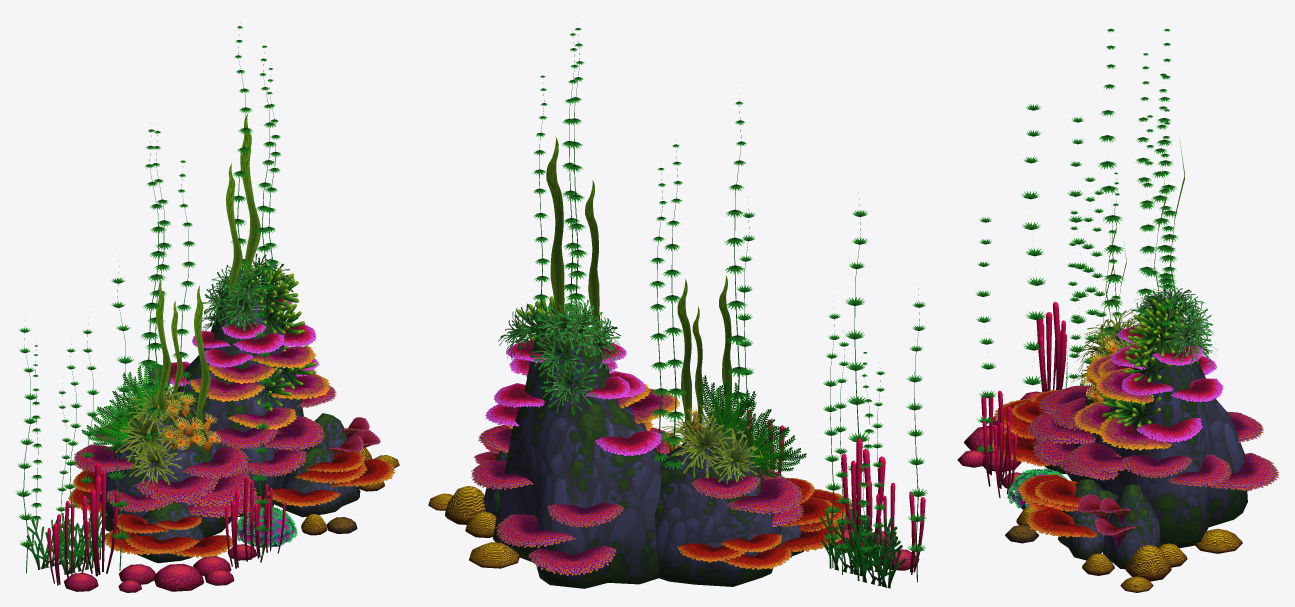
Rendered from CoralSet_14.FBX.
3 views of the same model, side by side, from view 1: azimuth 30°, elevation 25°; view 2: azimuth 150°, elevation 25°; view 3: azimuth 270°, elevation 25° (orthographic). The views are drawn at different scales.
Parts seen in each view (by area): view 1: Plane004, Plane145, Plane122, CoralSet_14, Plane163, Plane172, Line025, Line186, Plane289, Plane036, Plane301, Line230 (+27 smaller); view 2: Plane004, Plane145, CoralSet_14, Plane122, Plane172, Plane289, Plane288, Line025, Plane310, Plane305, Plane320, Plane312 (+24 smaller); view 3: Plane004, Plane145, Plane122, Plane163, Plane172, CoralSet_14, Line025, Line230, Line175, Plane312, Plane298, Plane324 (+23 smaller).
Part boxes in pixels (x1,y1,x2,y2): Plane004: (99, 283, 360, 537); Plane145: (73, 384, 336, 518); Plane122: (68, 451, 394, 557); CoralSet_14: (156, 113, 380, 455); Plane163: (189, 346, 330, 429); Plane172: (150, 323, 319, 386); Line025: (82, 463, 119, 576); Line186: (161, 394, 221, 451); Plane289: (81, 391, 136, 451); Plane036: (136, 502, 204, 563); Plane301: (113, 402, 180, 472); Line230: (224, 476, 270, 568); Plane004: (483, 322, 781, 588); Plane145: (471, 424, 803, 575); CoralSet_14: (473, 137, 731, 464); Plane122: (677, 478, 852, 569); Plane172: (485, 341, 662, 456); Plane289: (743, 409, 806, 478); Plane288: (700, 375, 756, 439); Line025: (841, 438, 885, 558); Plane310: (663, 139, 686, 483); Plane305: (670, 414, 735, 478); Plane320: (848, 523, 905, 588); Plane312: (724, 100, 750, 427); Plane004: (1058, 308, 1247, 569); Plane145: (1027, 355, 1279, 491); Plane122: (989, 390, 1097, 537); Plane163: (1073, 354, 1172, 450); Plane172: (1110, 325, 1223, 442); CoralSet_14: (1077, 139, 1184, 546); Line025: (1036, 302, 1065, 392); Line230: (981, 390, 1011, 486); Line175: (1125, 545, 1171, 581); Plane312: (1098, 28, 1124, 356); Plane298: (1165, 310, 1212, 365); Plane324: (1022, 104, 1046, 396).
Size of the model in its own units: 852 by 936 by 546.
